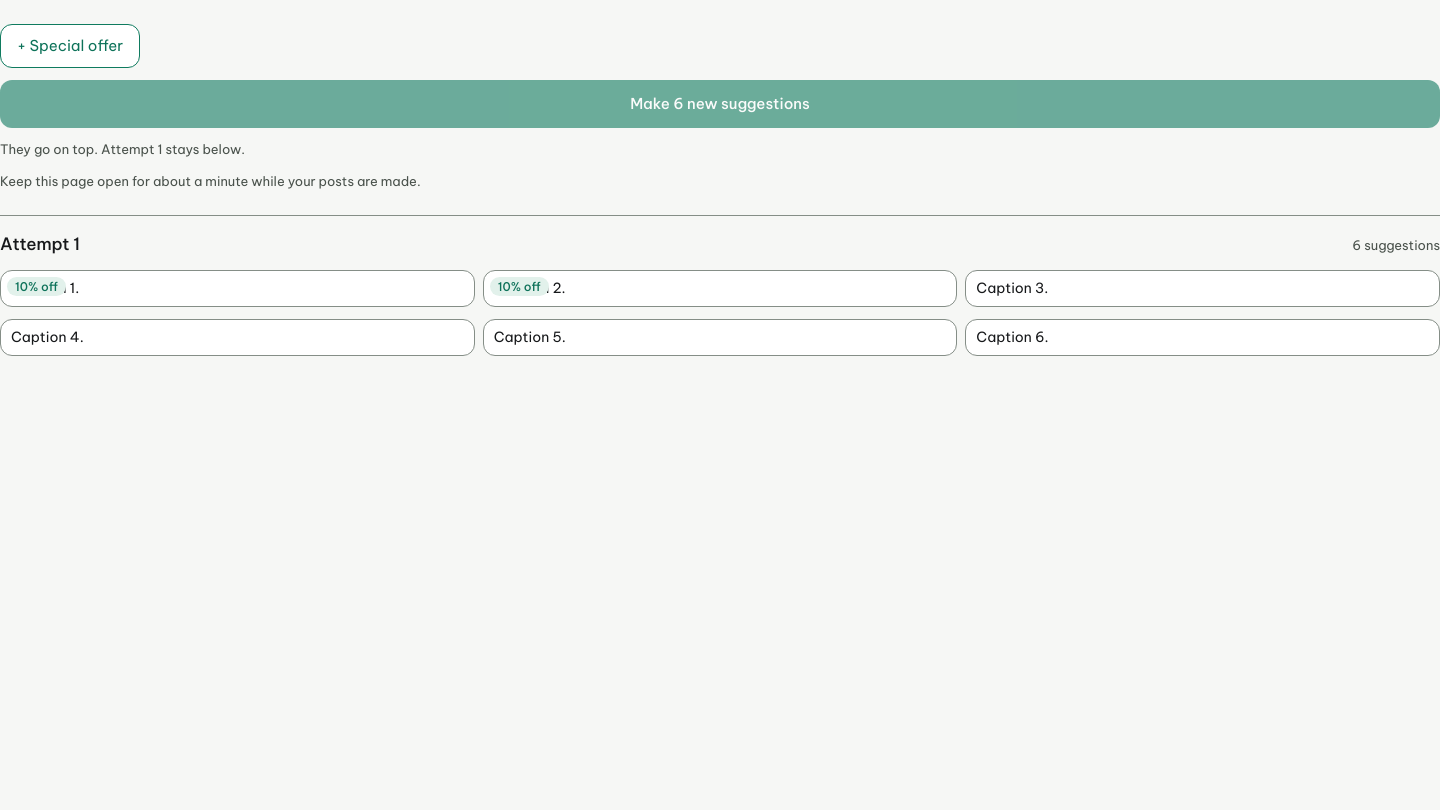
Test: the offer badge › the opened post shows the badge and its last day above the caption
This screenshot has width=1440, height=810.
Click the button "Caption 1. 10% off" at (237, 288), box [0, 270, 475, 307]
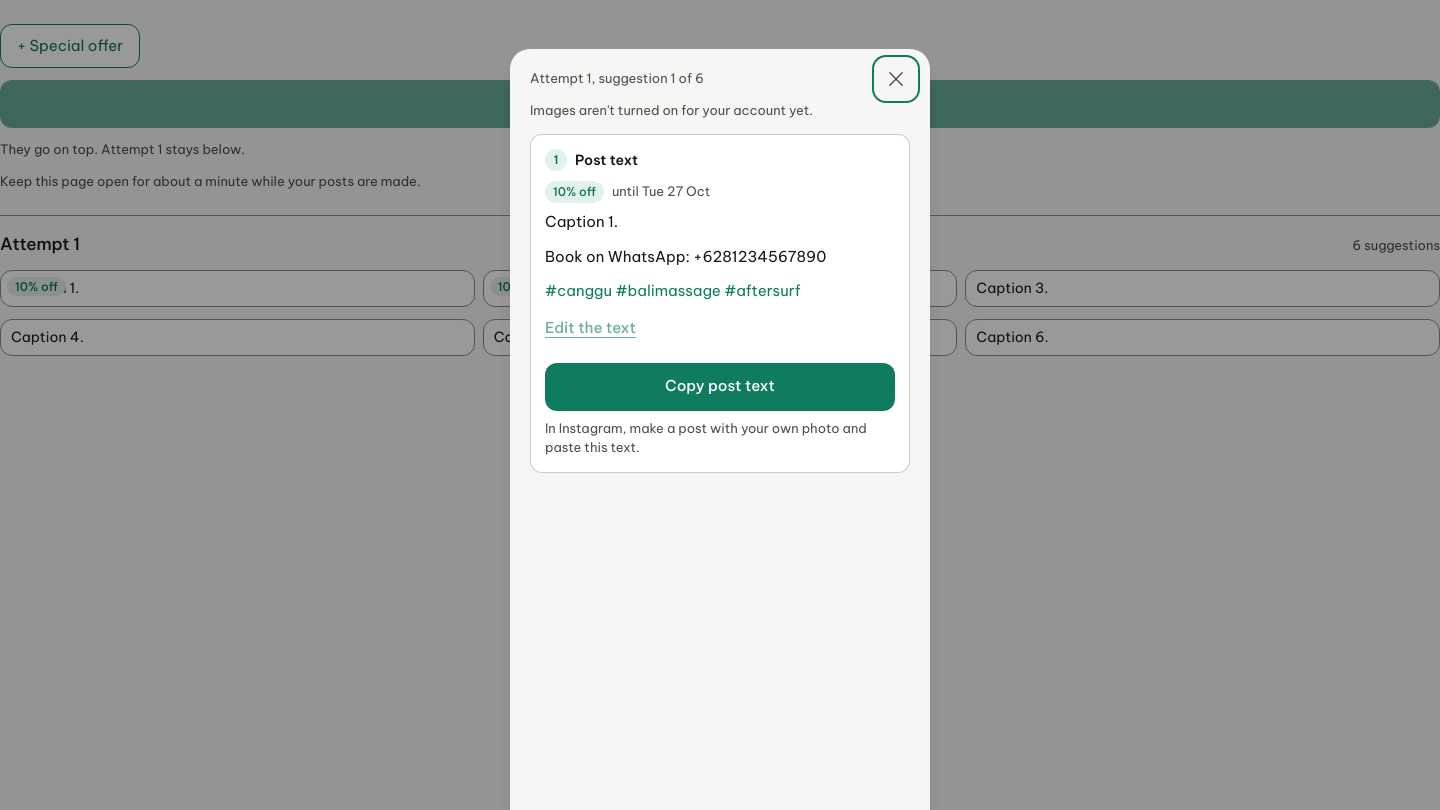
Now the text "until Tue 27 Oct" is shown, box [612, 182, 710, 202]
